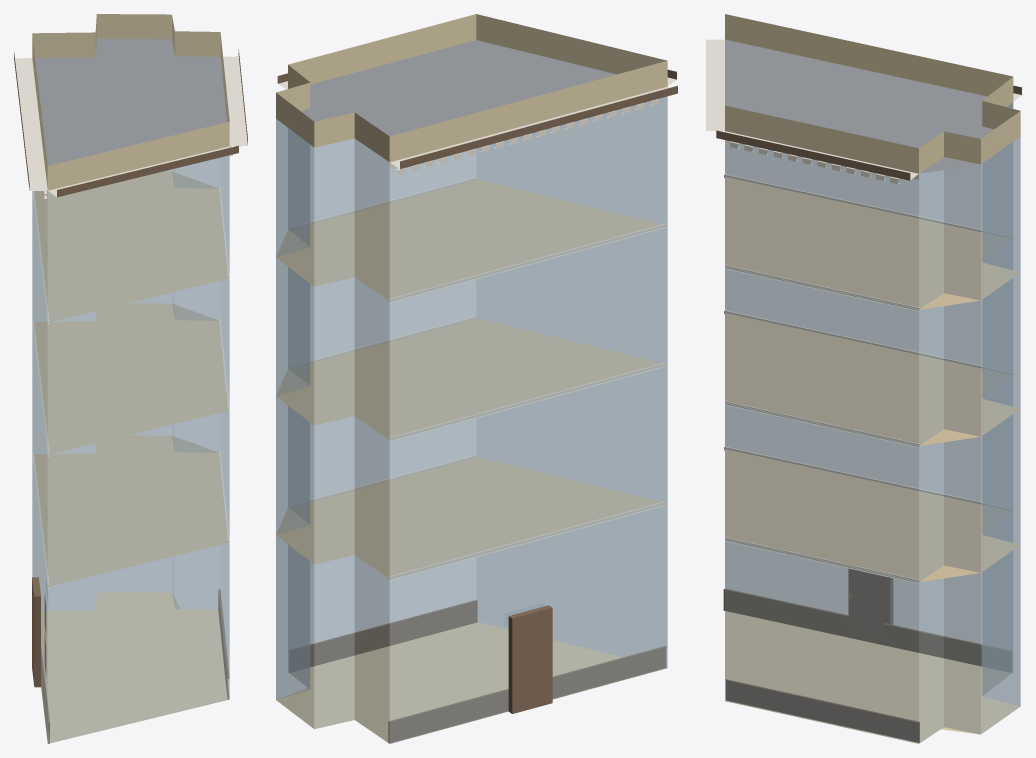
3 views of the same model, side by side, from view 1: azimuth 30°, elevation 25°; view 2: azimuth 150°, elevation 25°; view 3: azimuth 270°, elevation 25° (orthographic). The views are drawn at different scales.
Visible parts, largest first — view 1: N-42; view 2: N-42; view 3: N-42.
Part boxes in pixels (x1,y1,x2,y2): N-42: [14, 14, 247, 743]; N-42: [276, 14, 677, 743]; N-42: [706, 14, 1021, 743].
Bounding box in the file's own units: 7.48 × 14 × 6.73.
